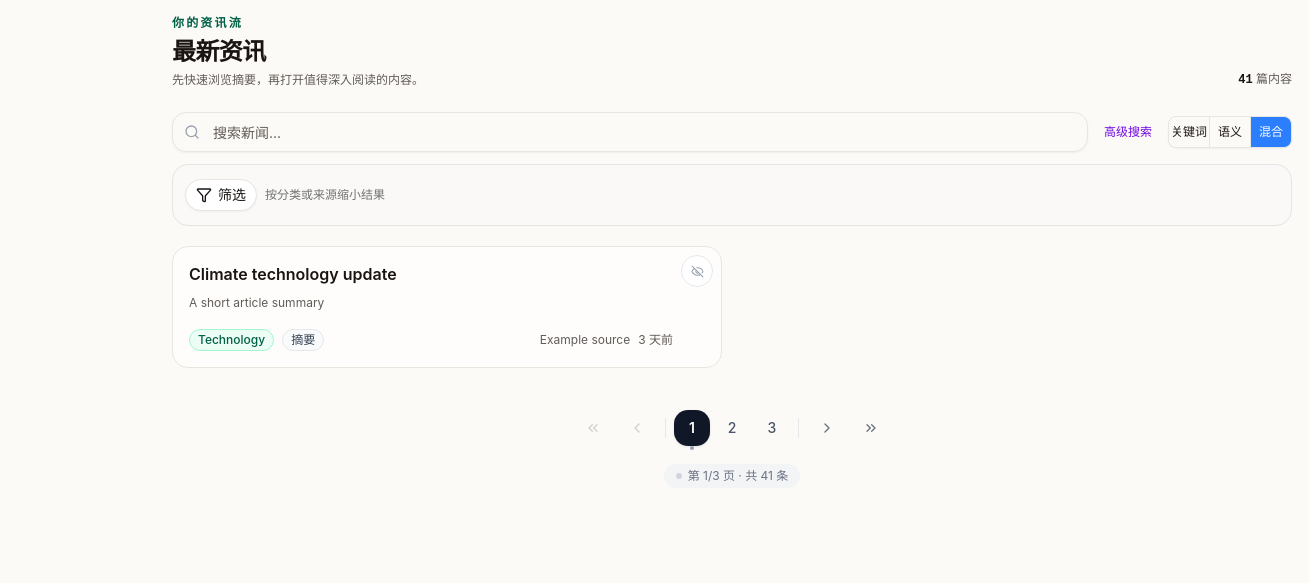
NewsList URL and server state › changes pages through URL navigation
expect the heading "Climate technology update" is shown: met, box x1=189 y1=264 x2=397 y2=284
Click the button "2" at point(732, 428), box x1=714 y1=410 x2=750 y2=446
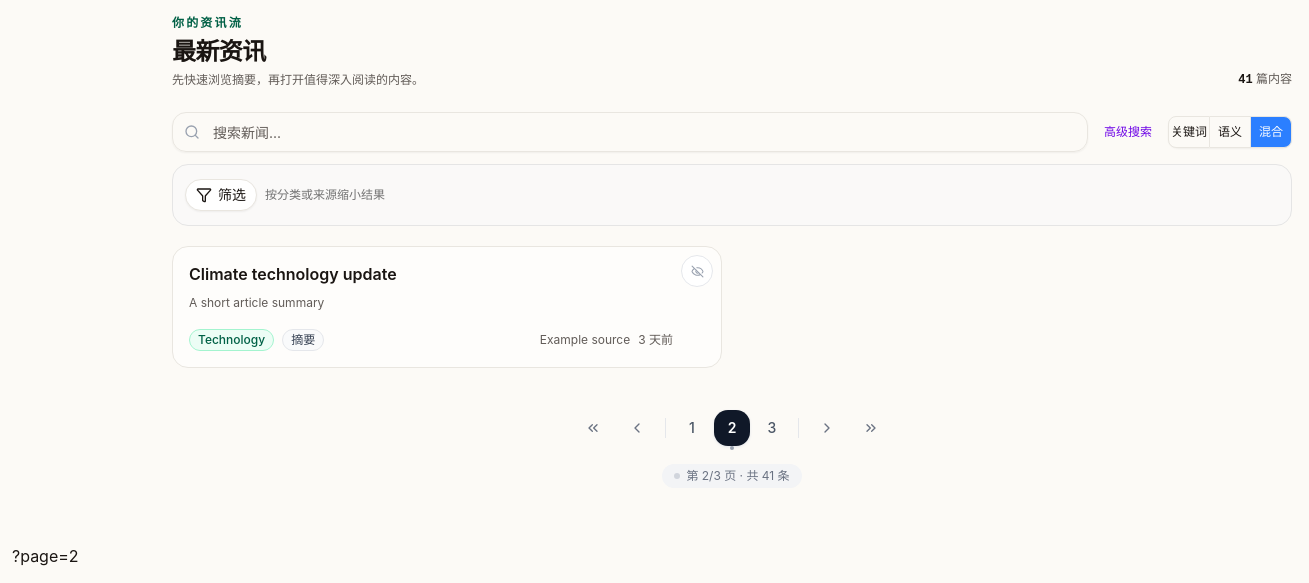
expect the text with test id "location-search" shows "page=2": met, box x1=12 y1=546 x2=79 y2=566
